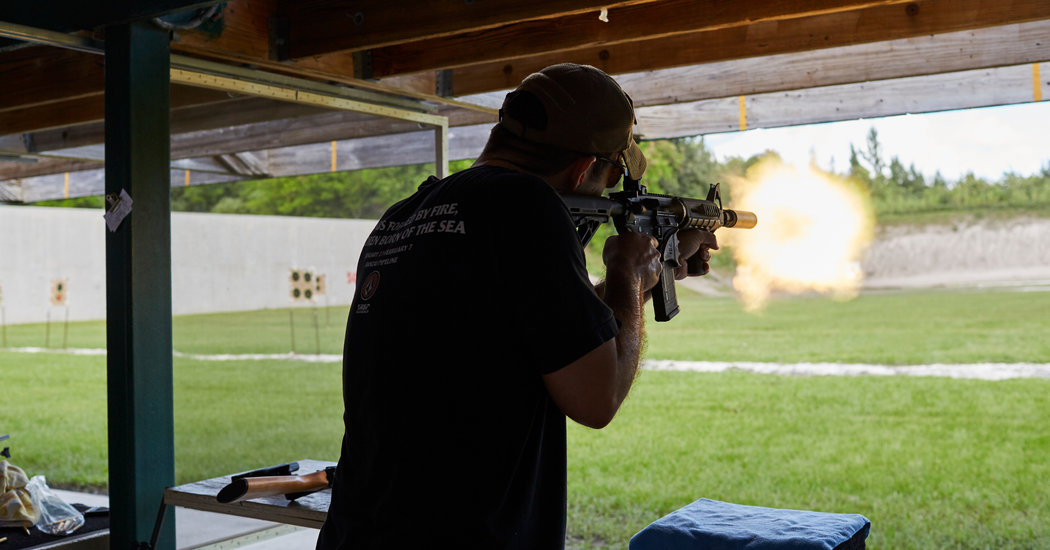Gun: (597, 191, 767, 281)
